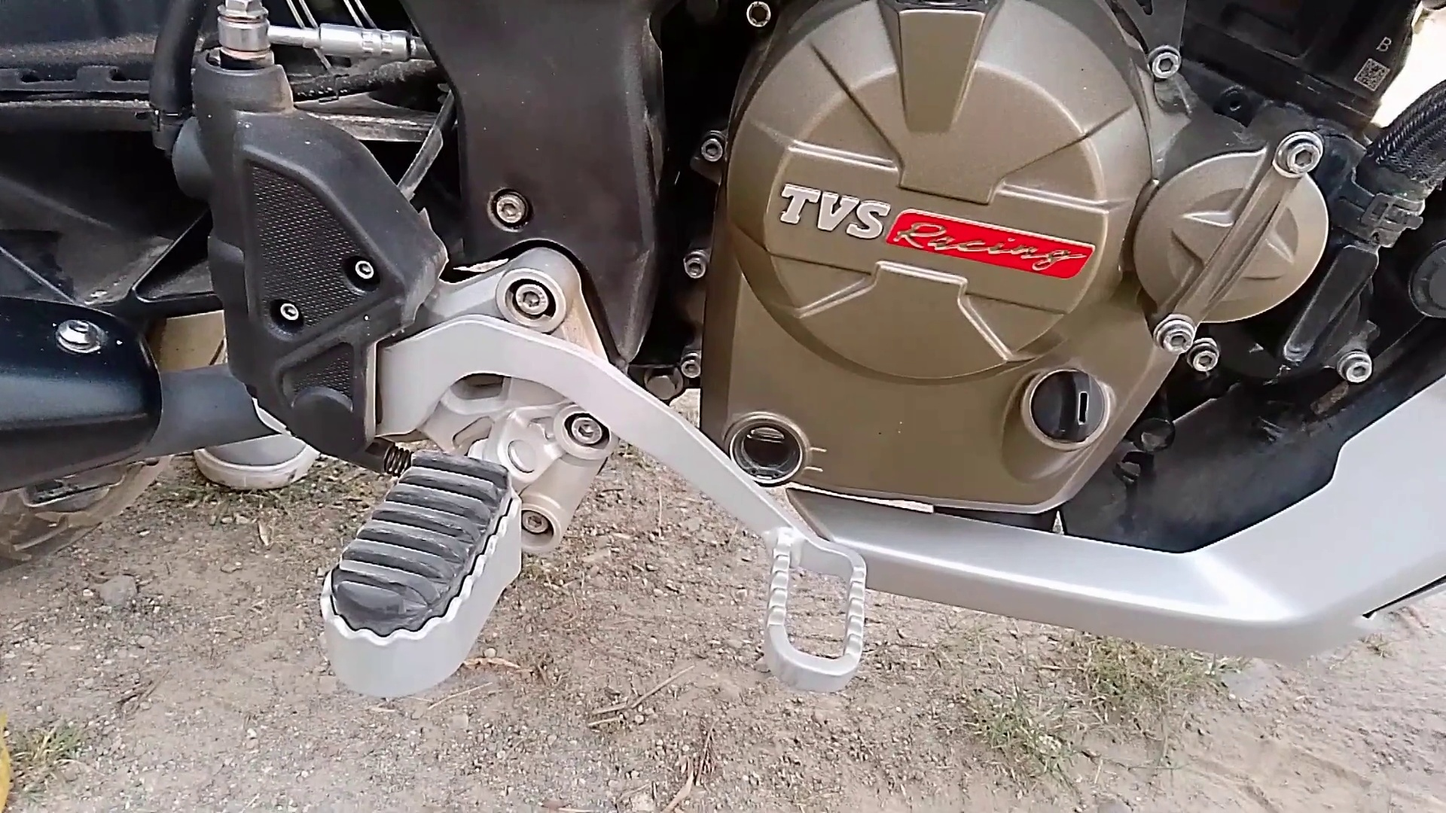engine: (653, 0, 1358, 553)
oil_cap: (1013, 350, 1124, 457)
oil_marker: (717, 390, 845, 501)
